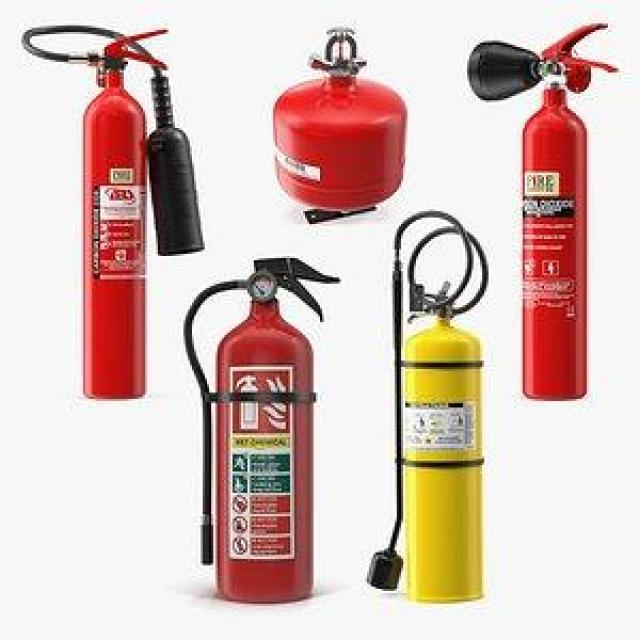fire_extinguisher: (15, 17, 209, 401), (463, 15, 621, 405), (176, 251, 342, 607), (359, 204, 492, 609), (264, 18, 414, 212)
